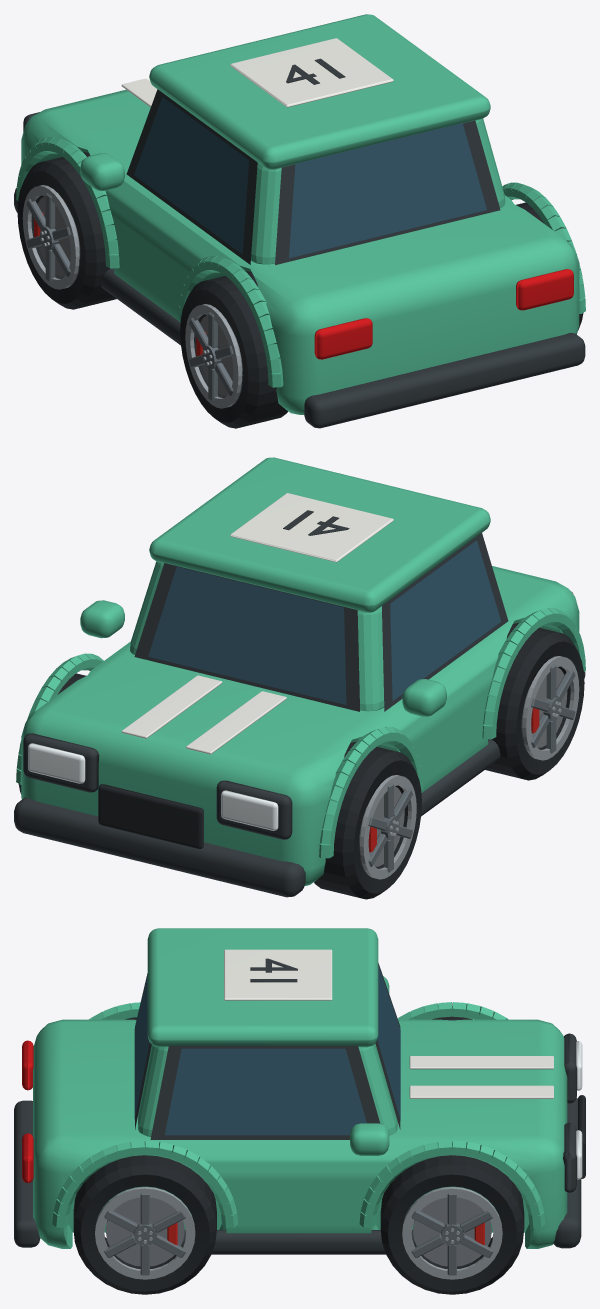
Rendered from car_balanced.glb.
The picture shows the model from 3 angles, top to bottom: view 1: azimuth 30°, elevation 25°; view 2: azimuth 150°, elevation 25°; view 3: azimuth 270°, elevation 25°; orthographic projection. The views are drawn at different scales.
Parts seen in each view (by area): view 1: Body.003, WheelMesh.014, WheelMesh.012; view 2: Body.003, WheelMesh.012, WheelMesh.014; view 3: Body.003, WheelMesh.015, WheelMesh.013.
Part boxes in pixels (<box>): Body.003: <box>14,14,585,428</box>; WheelMesh.014: <box>180,271,287,428</box>; WheelMesh.012: <box>17,152,116,309</box>; Body.003: <box>14,457,585,897</box>; WheelMesh.012: <box>314,741,421,899</box>; WheelMesh.014: <box>485,623,584,780</box>; Body.003: <box>14,928,585,1254</box>; WheelMesh.015: <box>73,1155,216,1294</box>; WheelMesh.013: <box>380,1155,524,1294</box>.
Bounding box in the file's own units: 2.64 × 1.87 × 3.91.
